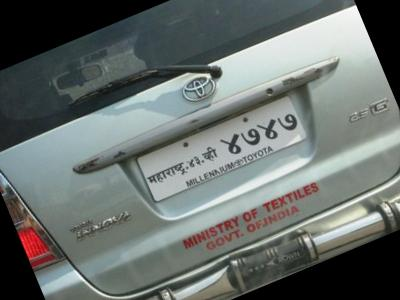plate: (127, 74, 328, 218)
